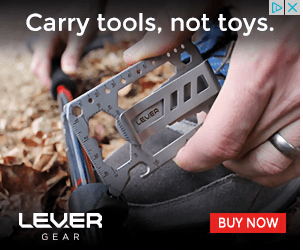fake_button: (200, 208, 289, 239)
